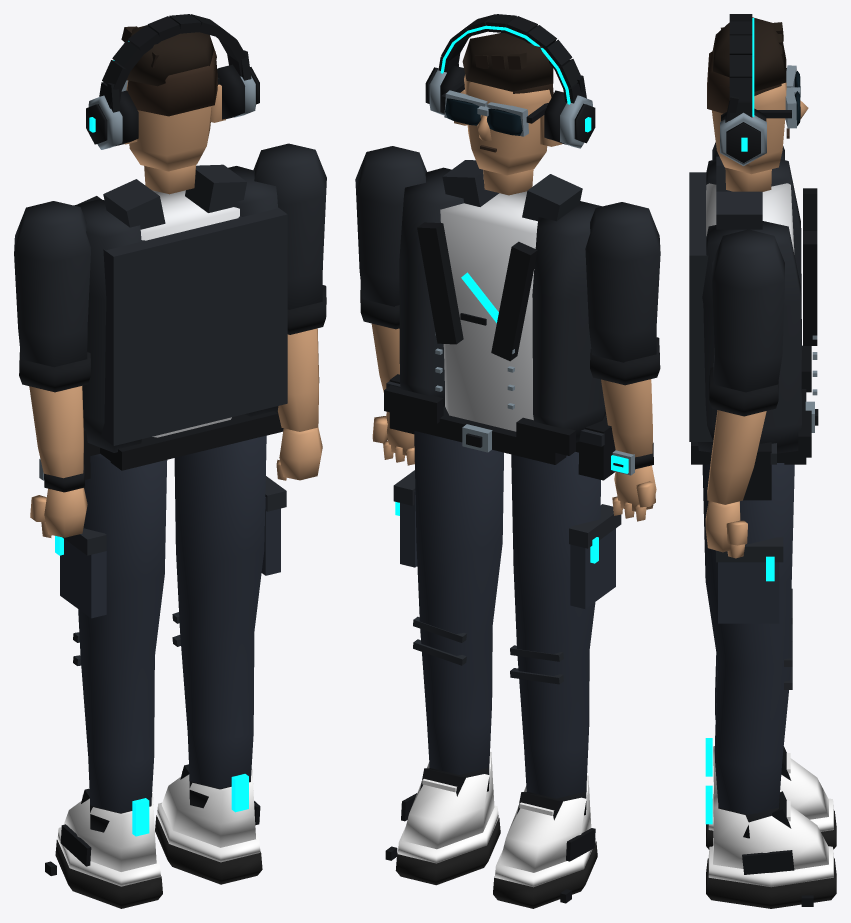
Rendered from player.glb.
3 views of the same model, side by side, from view 1: azimuth 30°, elevation 25°; view 2: azimuth 150°, elevation 25°; view 3: azimuth 270°, elevation 25° (orthographic). The views are drawn at different scales.
Parts seen in each view (by area): view 1: Tapered cargo jogger (×2), Jacket back, Bomber sleeve (×2), High top upper (×2), Athletic forearm (×2), Sculpted open jacket panel (×2), Sculpted black outsole (×2), Raised collar (×2), Tactical belt, Defined jaw and face, Cargo thigh pocket (×2), Curled palm (×2) (+13 smaller); view 2: Tapered cargo jogger (×2), Sculpted open jacket panel (×2), Bomber sleeve (×2), Fitted tee, High top upper (×2), Folded lapel (×2), Athletic forearm (×2), Sculpted black outsole (×2), Defined jaw and face, Cargo thigh pocket (×2), Raised collar (×2), Swept espresso crown (+12 smaller); view 3: Tapered cargo jogger, Bomber sleeve, Sculpted open jacket panel (×2), High top upper (×2), Jacket back, Athletic forearm, Cargo thigh pocket, Sculpted black outsole (×2), Swept espresso crown, Folded lapel (×2), Beveled white midsole (×2), Defined jaw and face (+17 smaller).
Part boxes in pixels (bbox=[...]): Tapered cargo jogger (×2): bbox=[78, 435, 266, 812]; Jacket back: bbox=[101, 207, 287, 445]; Bomber sleeve (×2): bbox=[14, 143, 326, 367]; High top upper (×2): bbox=[64, 769, 255, 871]; Athletic forearm (×2): bbox=[29, 328, 319, 478]; Sculpted open jacket panel (×2): bbox=[74, 166, 278, 452]; Sculpted black outsole (×2): bbox=[55, 815, 262, 908]; Raised collar (×2): bbox=[103, 164, 246, 229]; Tactical belt: bbox=[100, 411, 277, 470]; Defined jaw and face: bbox=[126, 80, 211, 171]; Cargo thigh pocket (×2): bbox=[60, 497, 280, 618]; Curled palm (×2): bbox=[44, 427, 322, 537]; Tapered cargo jogger (×2): bbox=[414, 431, 600, 798]; Sculpted open jacket panel (×2): bbox=[399, 167, 605, 442]; Bomber sleeve (×2): bbox=[355, 146, 660, 362]; Fitted tee: bbox=[440, 191, 537, 431]; High top upper (×2): bbox=[402, 752, 591, 872]; Folded lapel (×2): bbox=[417, 222, 537, 361]; Athletic forearm (×2): bbox=[371, 323, 652, 457]; Sculpted black outsole (×2): bbox=[395, 818, 597, 908]; Defined jaw and face: bbox=[464, 74, 551, 175]; Cargo thigh pocket (×2): bbox=[400, 491, 615, 608]; Raised collar (×2): bbox=[442, 160, 582, 221]; Swept espresso crown: bbox=[462, 33, 553, 91]; Tapered cargo jogger: bbox=[702, 463, 794, 814]; Bomber sleeve: bbox=[712, 229, 784, 392]; Sculpted open jacket panel (×2): bbox=[697, 159, 801, 453]; High top upper (×2): bbox=[713, 746, 828, 872]; Jacket back: bbox=[689, 172, 712, 441]; Athletic forearm: bbox=[707, 410, 766, 504]; Cargo thigh pocket: bbox=[718, 562, 779, 623]; Sculpted black outsole (×2): bbox=[706, 810, 836, 908]; Swept espresso crown: bbox=[712, 17, 786, 91]; Folded lapel (×2): bbox=[803, 188, 817, 345]; Beveled white midsole (×2): bbox=[708, 798, 833, 887]; Defined jaw and face: bbox=[712, 82, 786, 174].
Bounding box in the file's own units: 0.692 × 1.82 × 0.2868.
